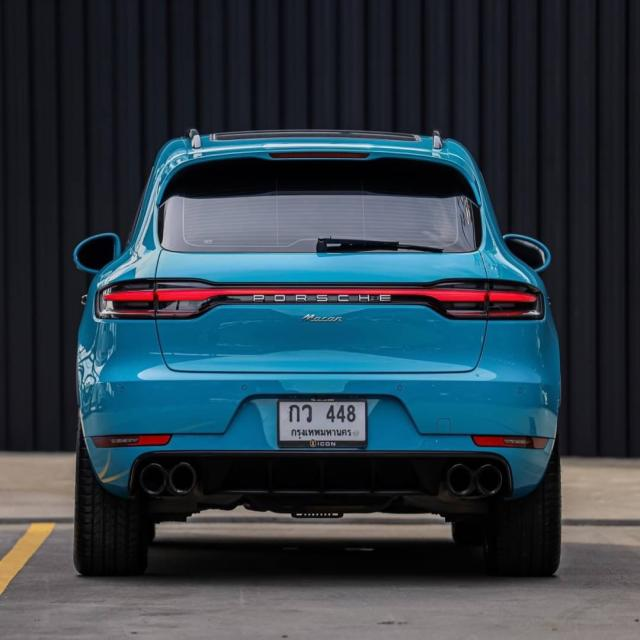license_plate: (276, 395, 368, 450)
